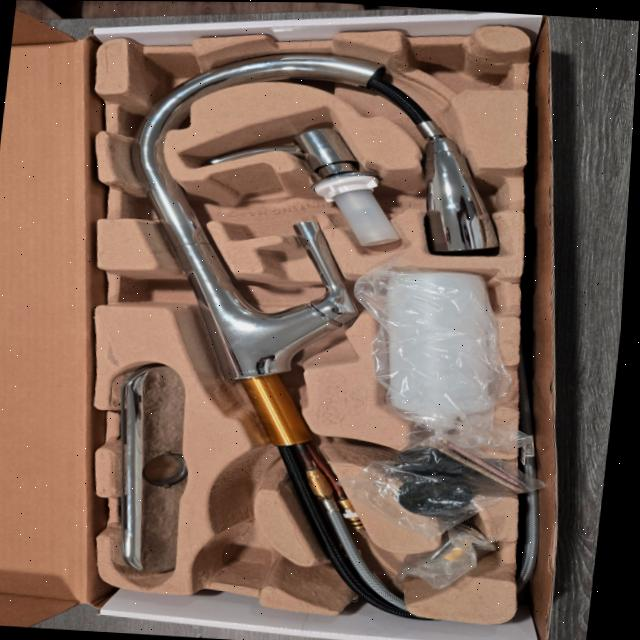1: (131, 53, 497, 617)
2: (208, 127, 403, 246)
3o: (389, 272, 491, 444)
4: (120, 365, 187, 574)
5m: (203, 523, 276, 582)
6: (397, 523, 500, 588)
7: (350, 430, 543, 537)
